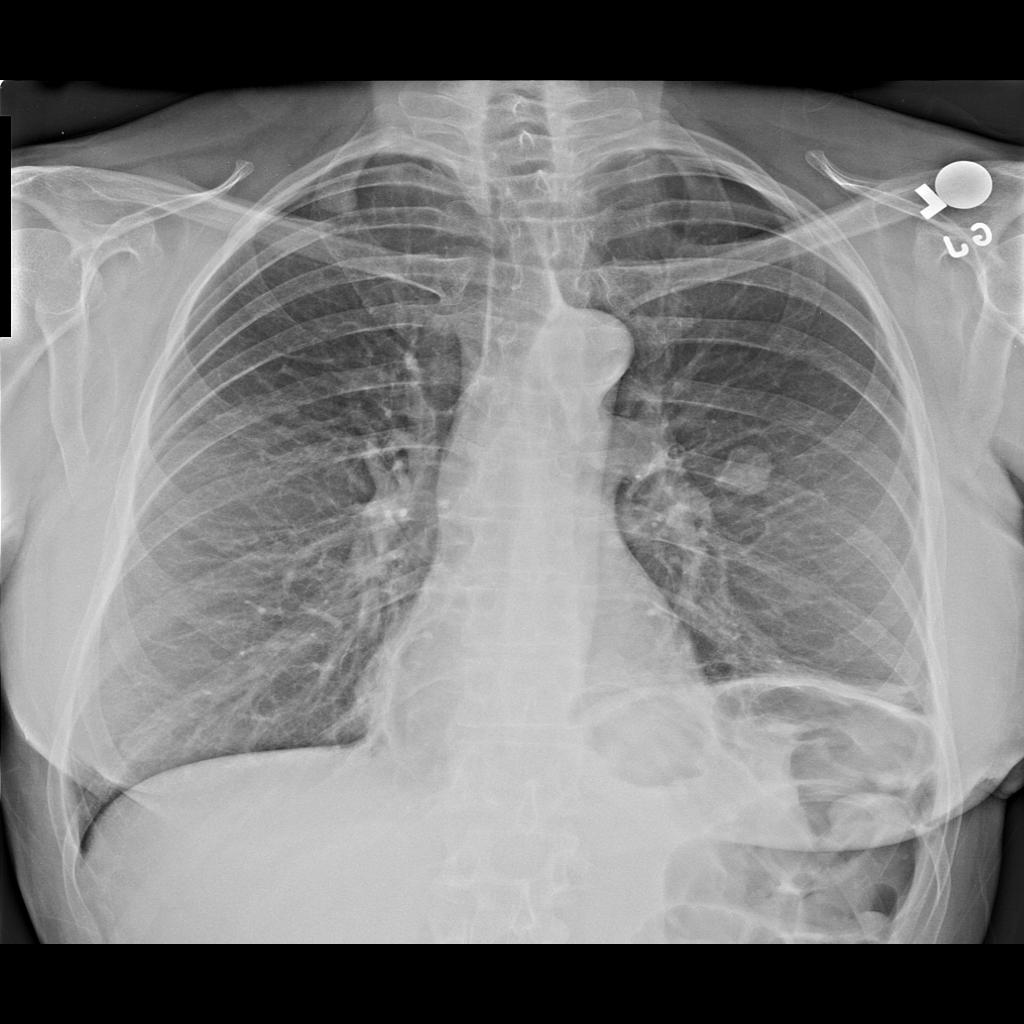Nodule: (720, 443, 775, 504)
